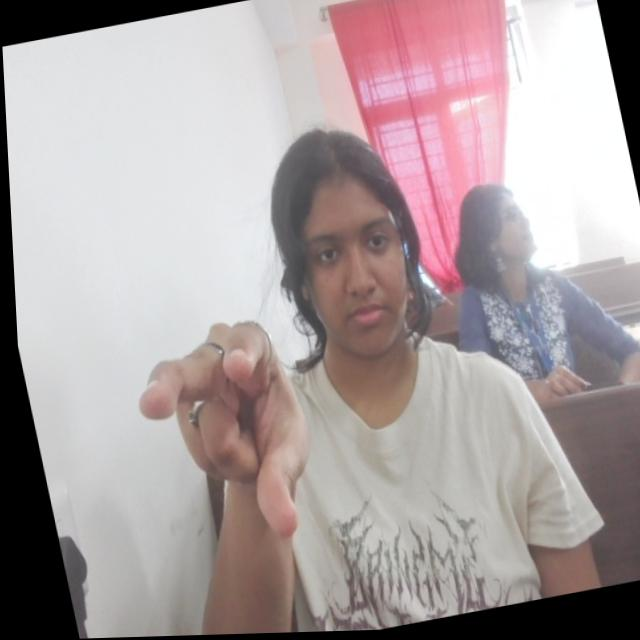no: (115, 304, 328, 562)
